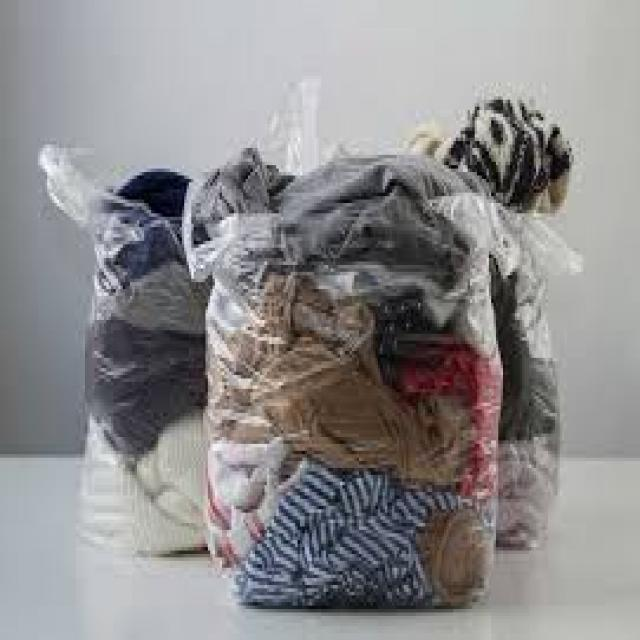Clothes -Biodegradable-: (40, 77, 582, 612)
